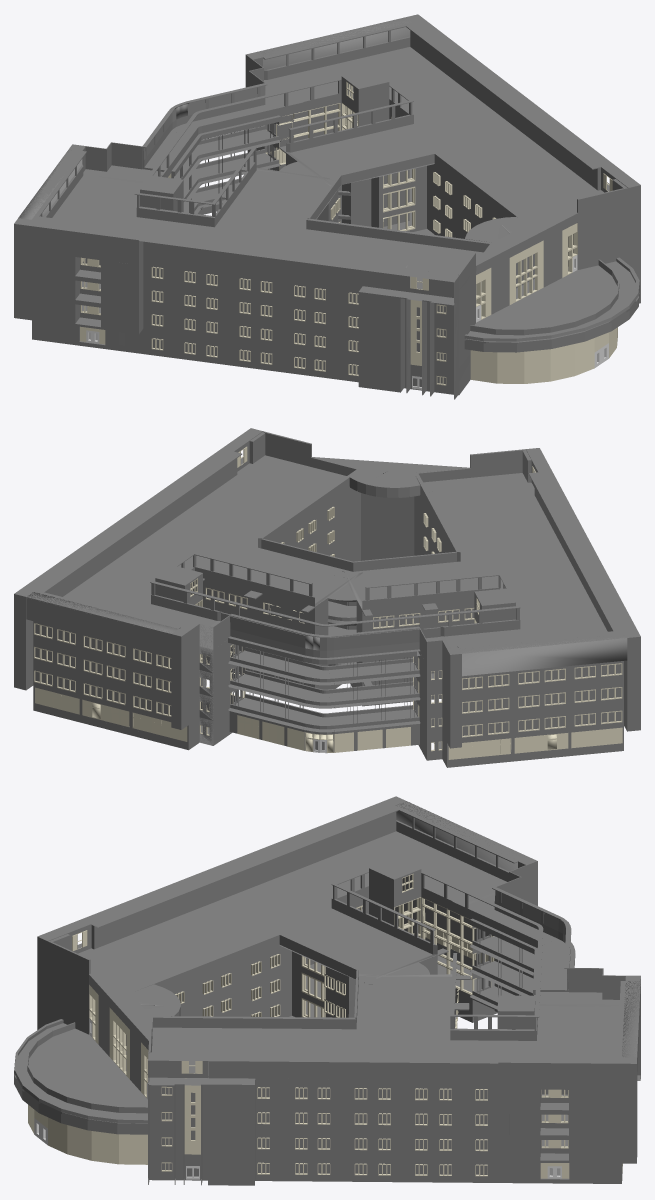
3 views of the same model, one above another, from view 1: azimuth 30°, elevation 25°; view 2: azimuth 150°, elevation 25°; view 3: azimuth 270°, elevation 25° (orthographic). The views are drawn at different scales.
Parts seen in each view (by area): view 1: Main block, Window frames, Doors; view 2: Main block, Window frames; view 3: Main block, Window frames, Doors.
Boxes of the visible parts, x1,y1,x2,y2 form: Main block: (14,14,640,399); Window frames: (80,81,617,385); Doors: (86,255,608,389); Main block: (14,428,640,767); Window frames: (34,446,622,759); Main block: (14,796,640,1185); Window frames: (28,873,622,1178); Doors: (34,1018,561,1179).
Size of the model in its own units: 443 by 101 by 438.
